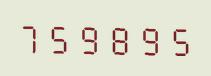eight: (105, 19, 133, 56)
five: (46, 18, 74, 55), (163, 21, 191, 57)
nine: (76, 19, 104, 55), (134, 20, 162, 56)
seven: (17, 18, 45, 54)
